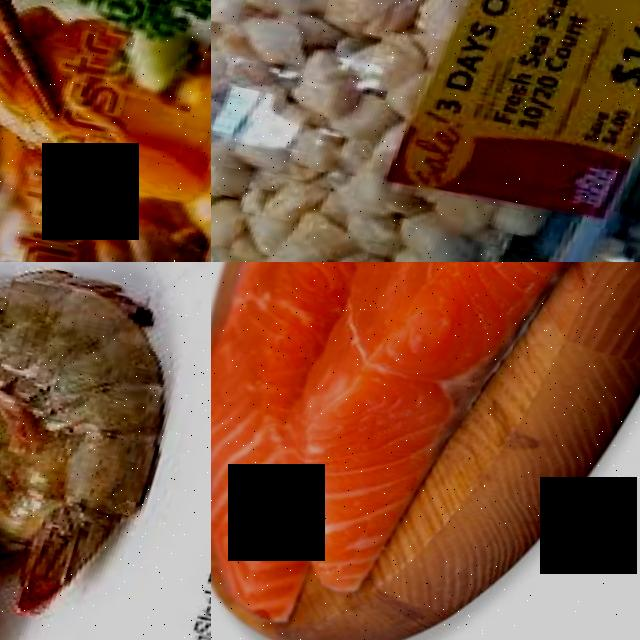salmon: (273, 262, 640, 600), (211, 262, 427, 540)
sea scallops: (238, 11, 316, 70), (211, 153, 256, 200), (211, 86, 230, 149)
shrimp: (5, 315, 198, 628), (0, 262, 193, 438)
